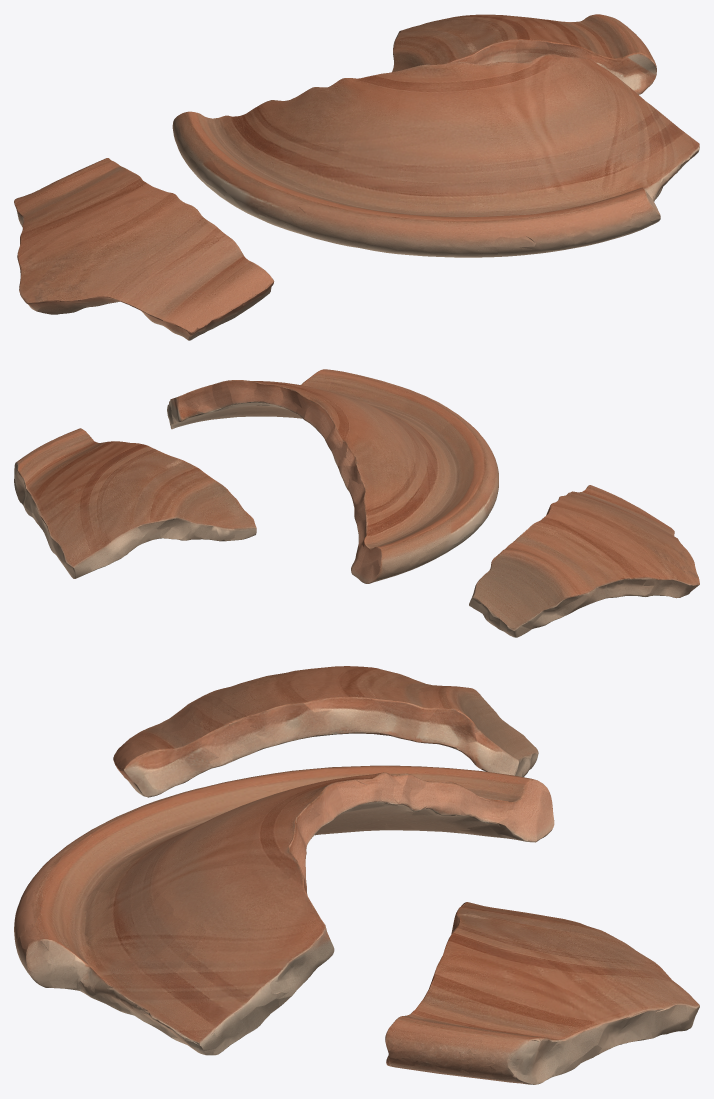
File: find-sherd.glb
3 renders of one model, top to bottom at view 1: azimuth 30°, elevation 25°; view 2: azimuth 150°, elevation 25°; view 3: azimuth 270°, elevation 25°, orthographic. The views are drawn at different scales.
Visible parts, largest first — view 1: mesh_node; view 2: mesh_node; view 3: mesh_node.
Part boxes in pixels (x1,y1,x2,y2): mesh_node: (14, 14, 699, 340); mesh_node: (14, 369, 699, 637); mesh_node: (14, 666, 699, 1084).
Size of the model in its own units: 1.9 by 0.3746 by 1.31.
Materials: 1 (1 with a texture image).
